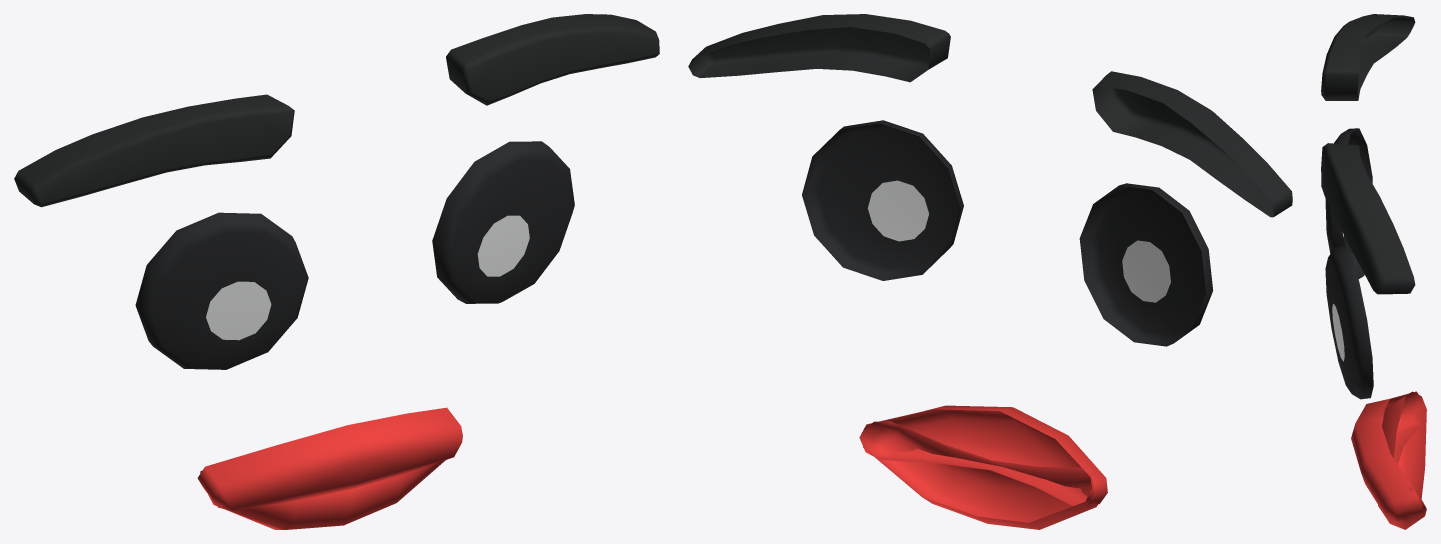
Rendered from Female_Emotion_Neutral_02.glb.
The picture shows the model from 3 angles, left to right: view 1: azimuth 30°, elevation 25°; view 2: azimuth 150°, elevation 25°; view 3: azimuth 270°, elevation 25°; orthographic projection. The views are drawn at different scales.
Parts seen in each view (by area): view 1: Female_Emotion_Neutral_02; view 2: Female_Emotion_Neutral_02; view 3: Female_Emotion_Neutral_02.
Boxes of the visible parts, x1,y1,x2,y2 form: Female_Emotion_Neutral_02: [14, 14, 659, 529]; Female_Emotion_Neutral_02: [688, 14, 1292, 529]; Female_Emotion_Neutral_02: [1321, 14, 1426, 529].
Size of the model in its own units: 0.2745 by 0.1991 by 0.0464.
Materials: 1 (1 with a texture image).
